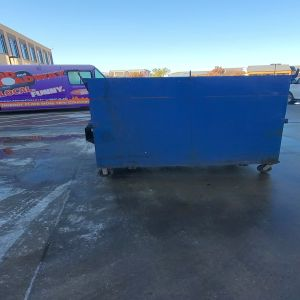Dumpster: (83, 77, 294, 180)
